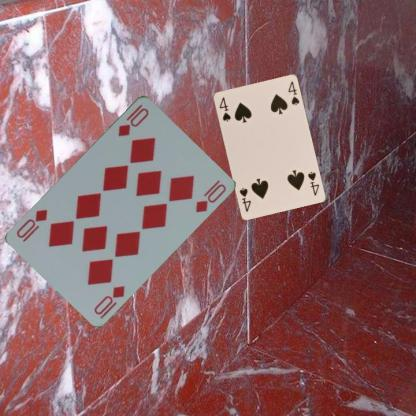10d: (115, 100, 151, 138), (91, 283, 126, 320)
4s: (216, 95, 232, 122), (305, 169, 320, 196)
